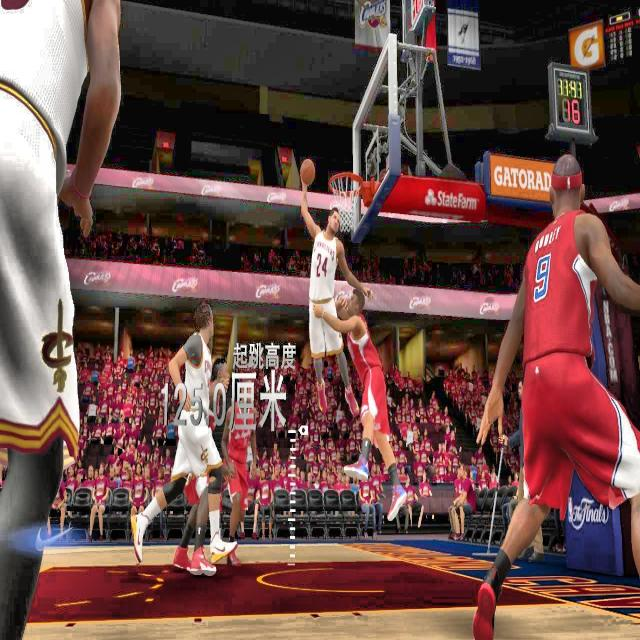board: (300, 159, 316, 185)
rim: (326, 170, 372, 235)
